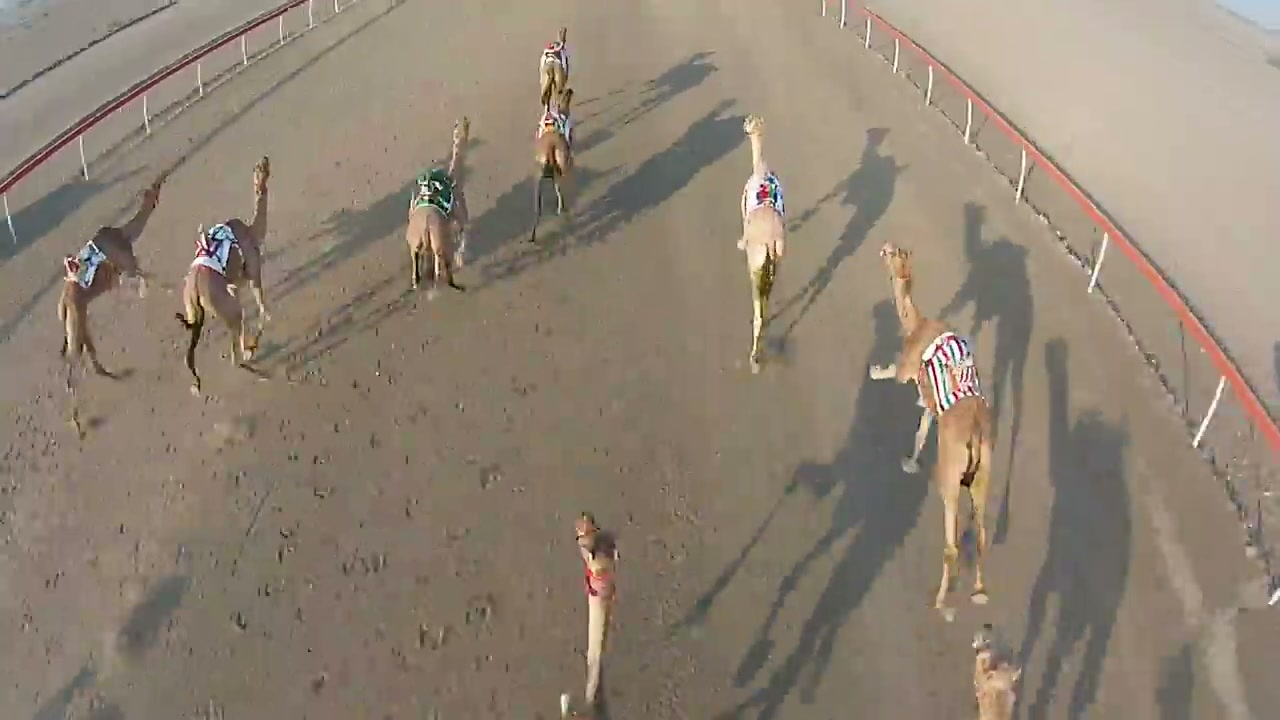animal_foot_print: (26, 249, 602, 711)
